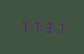seven: (18, 18, 28, 33), (51, 20, 61, 35), (29, 19, 39, 33)
three: (40, 19, 50, 34)
